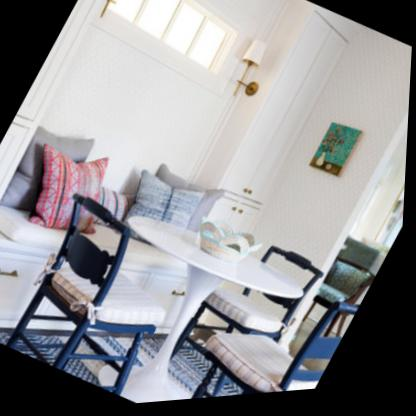Dining Table: (0, 144, 378, 415)
